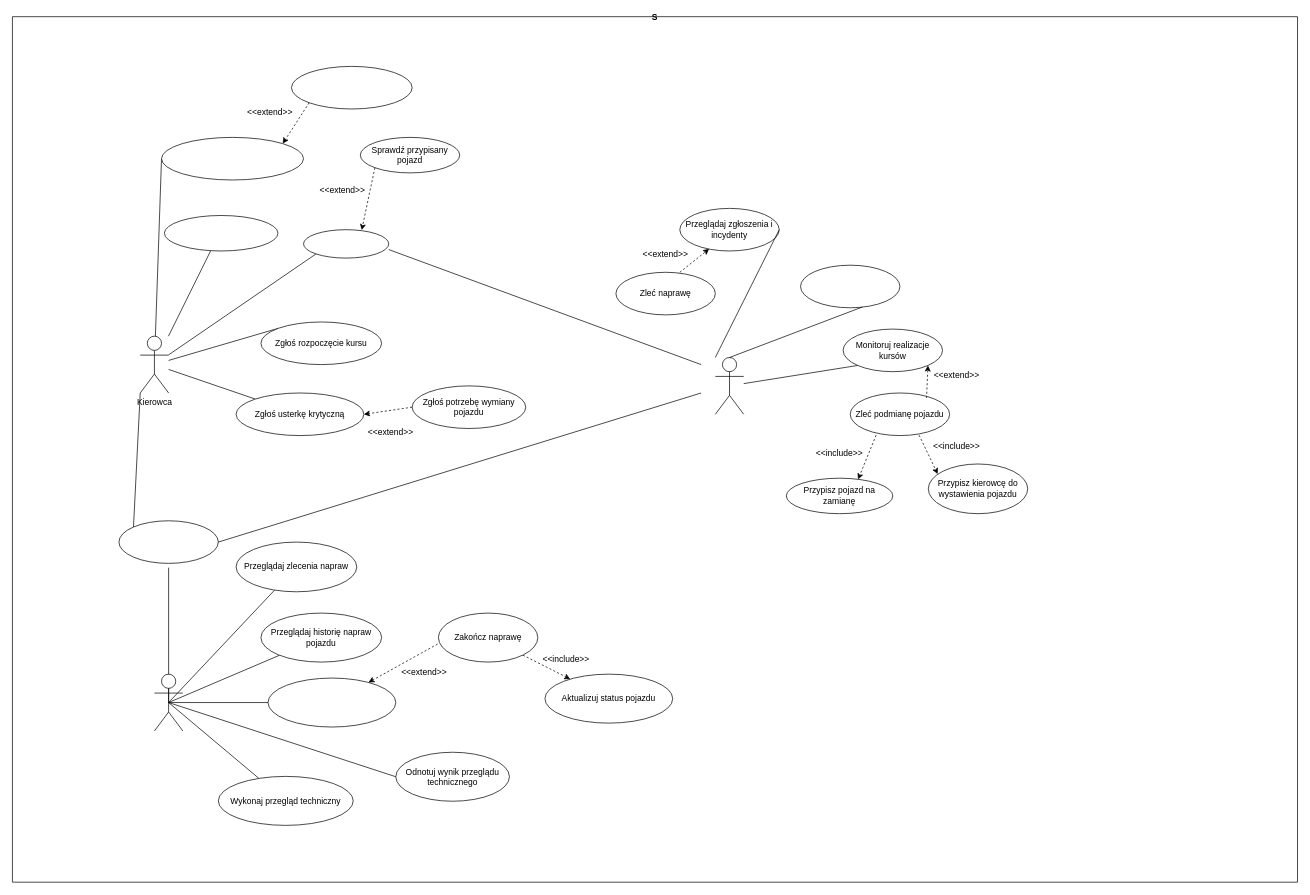
The diagram is 1310 pixels wide and 895 high, and some of its shapes have lost their labels. Here are the shapes that lost their labels. From the top down, the centre of each, then its label:
At (351,87): "Zgłoś usterkę pojazdu (niekrytyczną)".
At (232,158): "Zgłoś zakończenie kursu".
At (221,233): "Zgłoś indycent".
At (346,243): "Sprawdź rozkład jazdy".
At (850,286): "Sprawdź status pojazdu".
At (729,385): "Dyspozytor".
At (168,541): "Zaloguj się do systemu".
At (168,702): "Mechanik".
At (331,702): "Aktualizuj przebieg naprawy".
